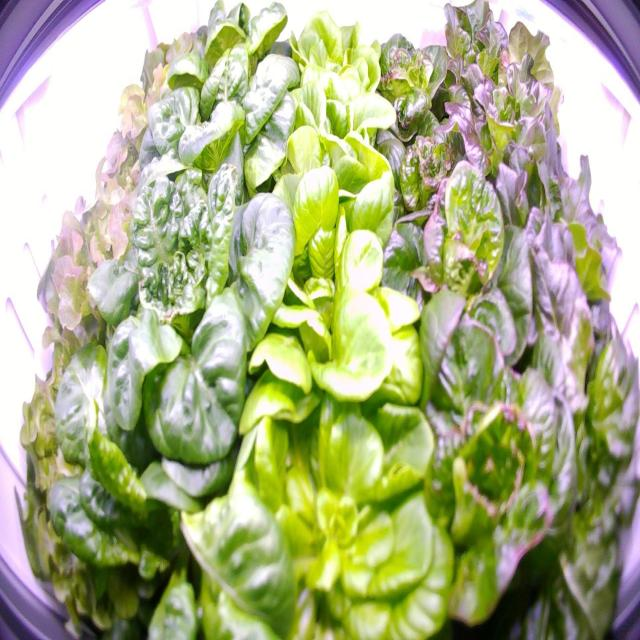Ready: (180, 352, 460, 639), (74, 138, 310, 476), (392, 292, 593, 636), (37, 339, 263, 639), (228, 170, 434, 450), (382, 148, 556, 390), (135, 42, 308, 227), (263, 54, 413, 228), (359, 79, 489, 227), (167, 1, 301, 130), (348, 19, 474, 154), (273, 1, 392, 126)
